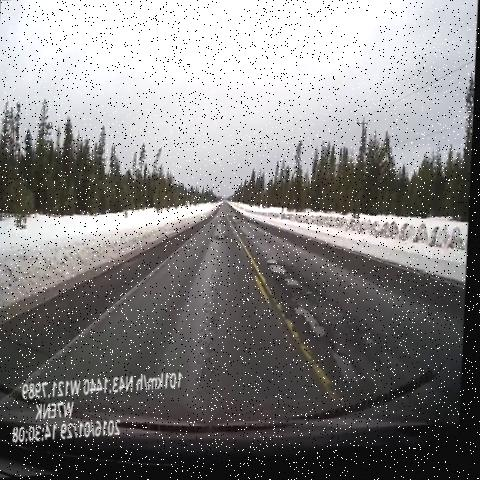pothole: (331, 350, 374, 405), (289, 302, 334, 352), (281, 278, 312, 304), (239, 229, 265, 254), (266, 262, 293, 286), (214, 229, 234, 252), (219, 214, 234, 232)
